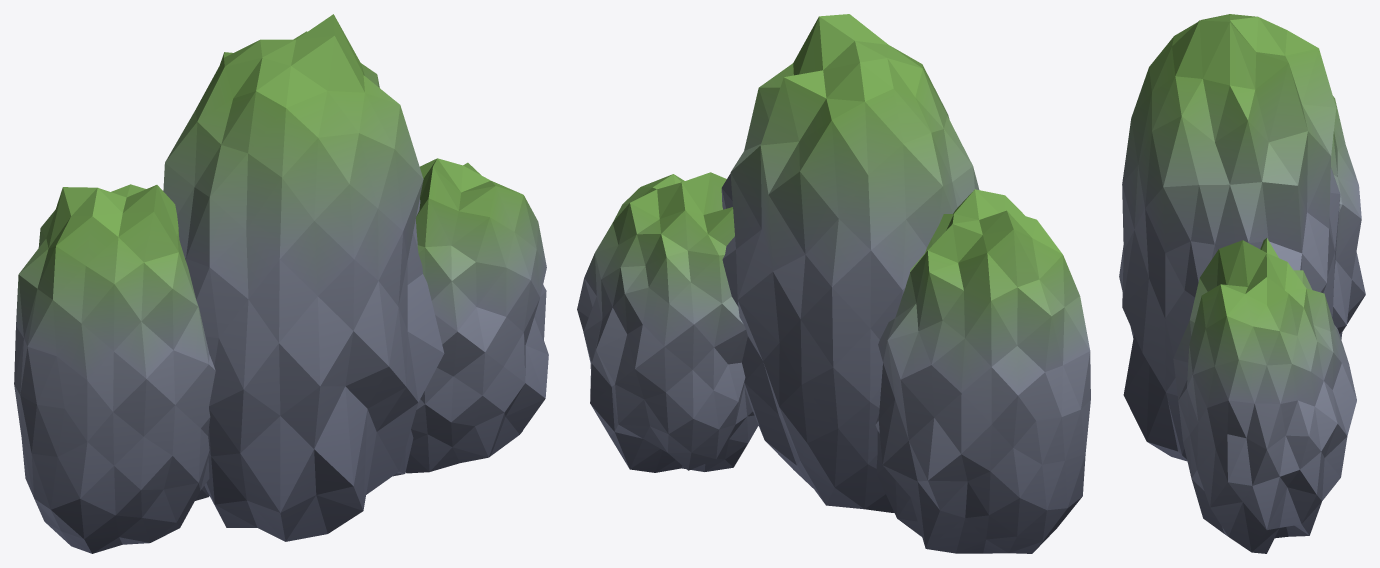
File: cliff_spires.glb
3 renders of one model, left to right at view 1: azimuth 30°, elevation 25°; view 2: azimuth 150°, elevation 25°; view 3: azimuth 270°, elevation 25°, orthographic. The views are drawn at different scales.
Visible parts, largest first — view 1: cliff_spires; view 2: cliff_spires; view 3: cliff_spires.
Boxes of the visible parts, x1,y1,x2,y2 form: cliff_spires: (14,14,548,553); cliff_spires: (577,14,1090,553); cliff_spires: (1119,14,1365,553).
Bounding box in the file's own units: 4.58 × 4.05 × 2.
